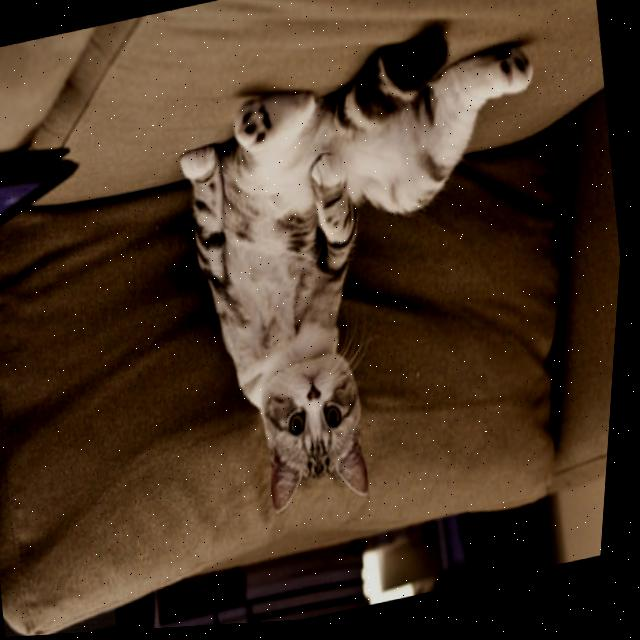Scottish Fold: (145, 11, 602, 541)
